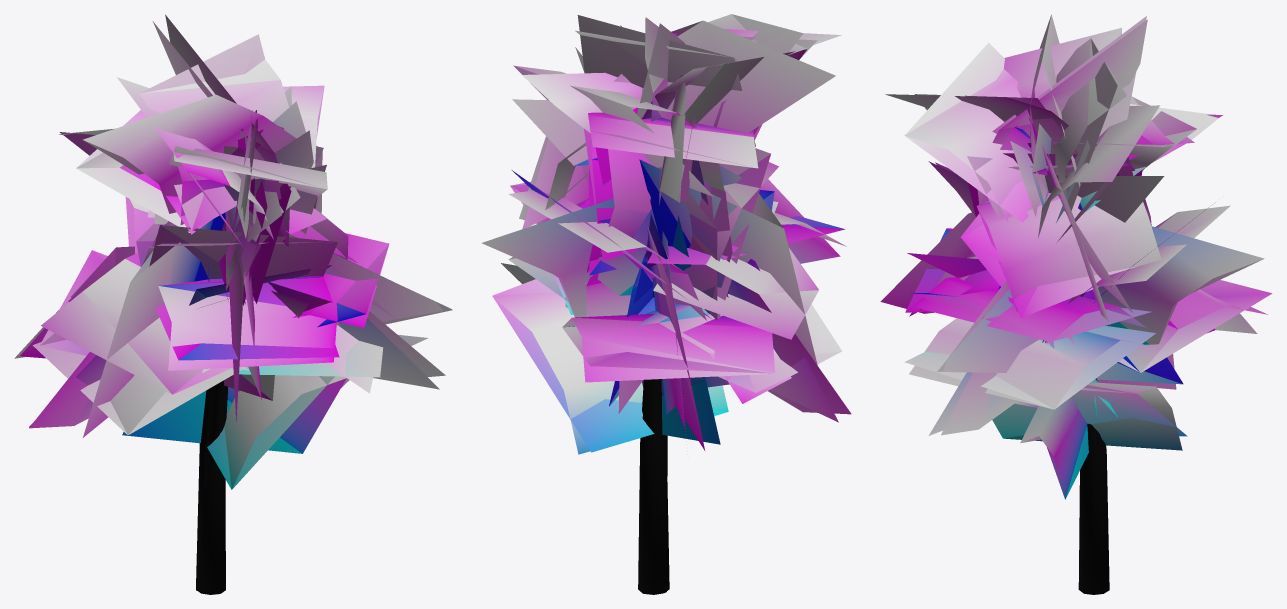
The model's file is ekasia_tumula_01_a.dae.
3 views of the same model, side by side, from view 1: azimuth 30°, elevation 25°; view 2: azimuth 150°, elevation 25°; view 3: azimuth 270°, elevation 25° (orthographic). The views are drawn at different scales.
Parts seen in each view (by area): view 1: ekasia160, ekasia80; view 2: ekasia80, ekasia160; view 3: ekasia160, ekasia80.
Part boxes in pixels (<box>): ekasia160: <box>14,14,451,594</box>; ekasia80: <box>20,21,452,594</box>; ekasia80: <box>481,14,844,594</box>; ekasia160: <box>492,14,851,594</box>; ekasia160: <box>880,15,1267,594</box>; ekasia80: <box>904,14,1272,594</box>.
Size of what is drawn, in the model's own units: 13.11 by 12.2 by 19.22.
